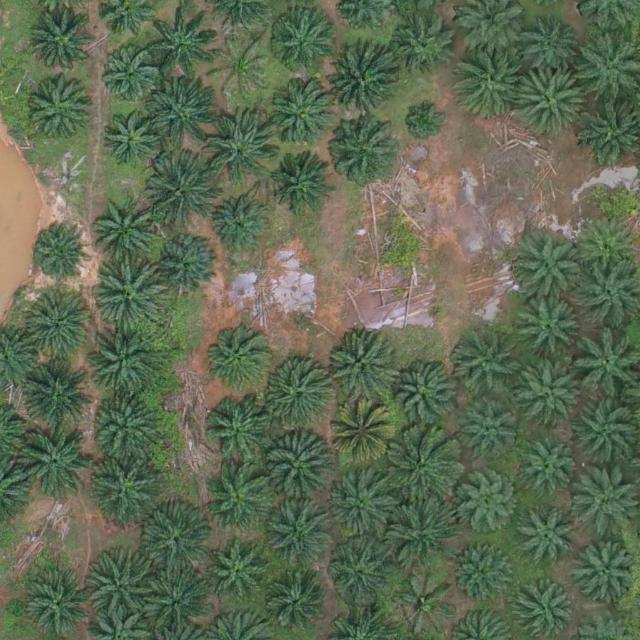Kelapa_Sawit: (204, 463, 274, 534), (92, 388, 162, 459), (268, 78, 338, 149), (203, 321, 273, 392), (147, 156, 217, 227), (86, 329, 156, 400), (21, 356, 91, 427), (22, 289, 92, 360), (28, 8, 98, 79), (384, 499, 454, 569), (387, 429, 457, 499), (264, 434, 334, 504), (202, 397, 272, 467), (142, 510, 212, 580), (86, 452, 156, 522), (86, 545, 156, 615), (16, 425, 86, 495), (513, 65, 583, 135), (449, 49, 519, 119), (513, 233, 583, 303), (515, 352, 585, 422), (448, 329, 518, 399), (386, 359, 456, 429), (325, 332, 395, 402), (256, 360, 326, 430), (326, 46, 396, 116), (327, 119, 397, 189), (205, 112, 275, 182), (147, 77, 217, 147), (145, 6, 215, 76), (93, 189, 163, 259), (95, 260, 165, 330), (574, 542, 636, 605), (515, 506, 577, 569), (451, 540, 513, 603), (325, 471, 387, 534), (326, 541, 388, 604), (267, 506, 329, 569), (205, 541, 267, 604), (517, 14, 579, 77), (575, 214, 637, 277), (518, 298, 580, 361), (395, 15, 457, 78), (211, 33, 273, 96), (153, 231, 215, 294), (97, 44, 159, 107), (99, 104, 161, 167), (30, 76, 92, 139), (453, 474, 515, 536), (394, 572, 456, 634), (329, 404, 391, 466), (144, 570, 206, 632), (26, 575, 88, 637), (269, 152, 331, 214), (267, 9, 329, 71), (209, 197, 271, 259), (522, 440, 576, 495), (461, 406, 515, 461), (30, 223, 84, 278), (401, 96, 447, 142)
